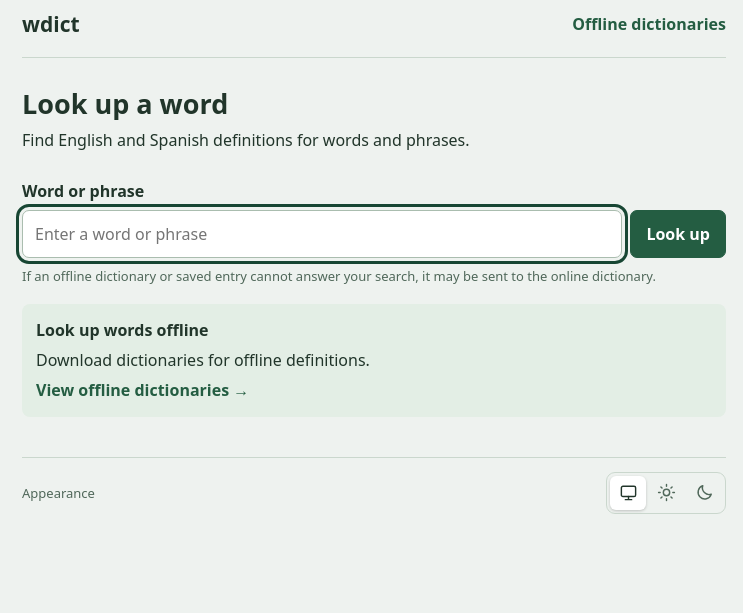
Scenario: lookup and offline dictionary UI › given_spanish_found_and_english_missing_when_results_arrive_then_no_error_is_shown
The width and height of the screenshot is (743, 613).
Type "diccionario" into the field labelled "Word or phrase" at (322, 234), box [22,210,622,258]
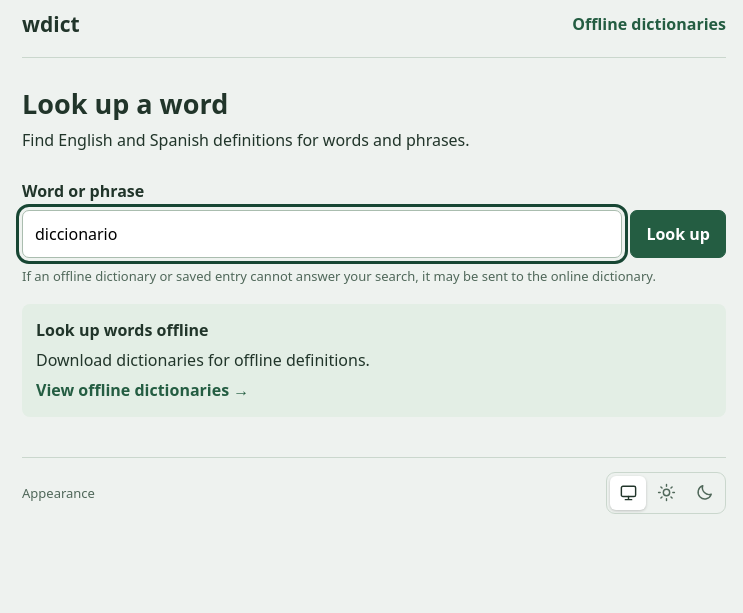
Click the button "Look up" at (678, 234), box [630,210,726,258]
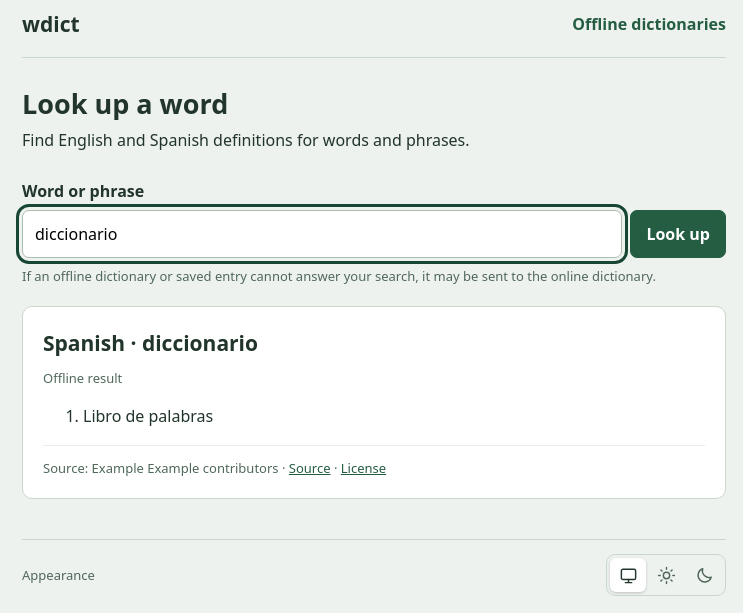
Check: the list item "Libro de palabras" is shown, box [83,405,213,427]
